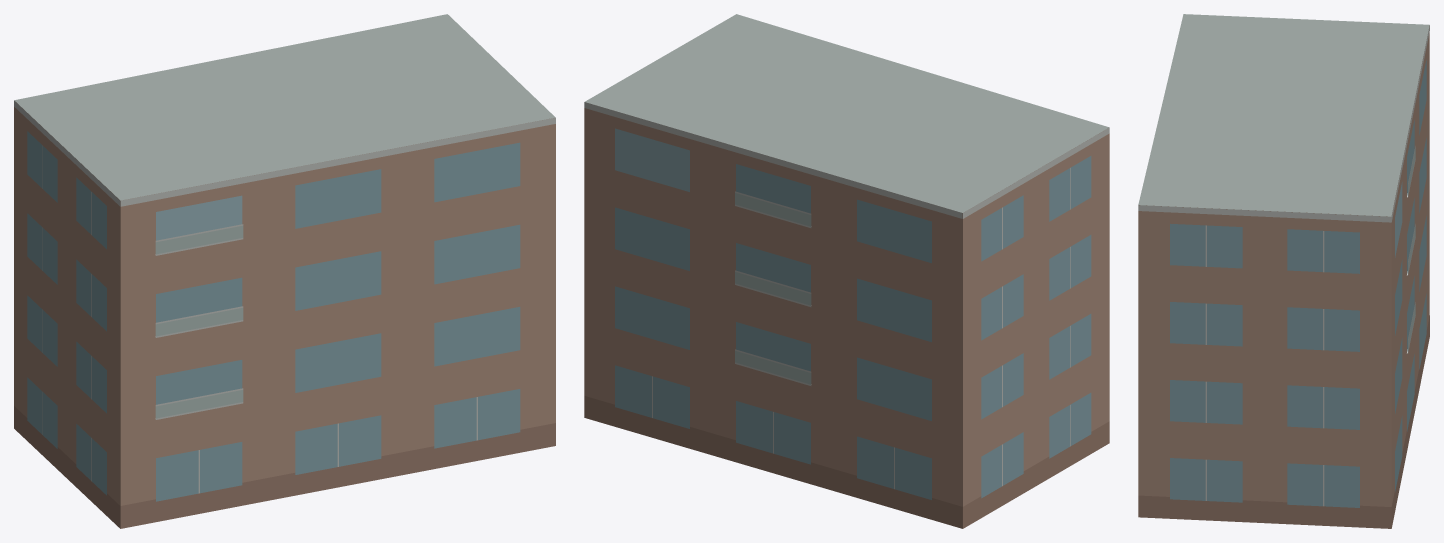
Rendered from survey-upis-32911320.glb.
The picture shows the model from 3 angles, left to right: view 1: azimuth 30°, elevation 25°; view 2: azimuth 150°, elevation 25°; view 3: azimuth 270°, elevation 25°; orthographic projection. The views are drawn at different scales.
Visible parts, largest first — view 1: survey-upis-32911320.tmp; view 2: survey-upis-32911320.tmp; view 3: survey-upis-32911320.tmp.
Boxes of the visible parts, left/top/right/bottom form: survey-upis-32911320.tmp: left=14, top=14, right=555, bottom=528; survey-upis-32911320.tmp: left=584, top=14, right=1109, bottom=528; survey-upis-32911320.tmp: left=1138, top=14, right=1429, bottom=528.
Bounding box in the file's own units: 17.82 × 12.8 × 10.84.
